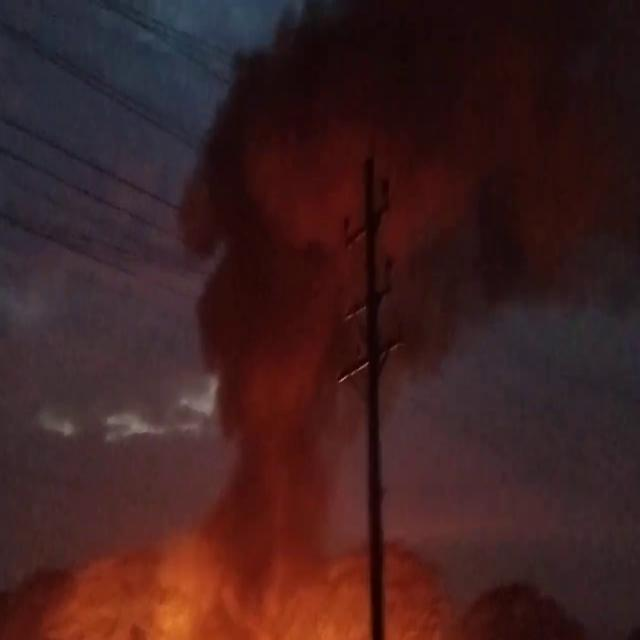Smoke: (89, 2, 639, 594)
